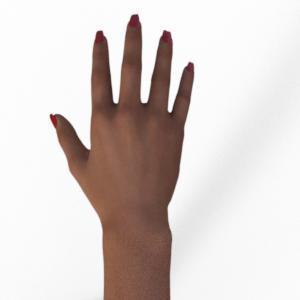paper: (50, 15, 194, 239)
